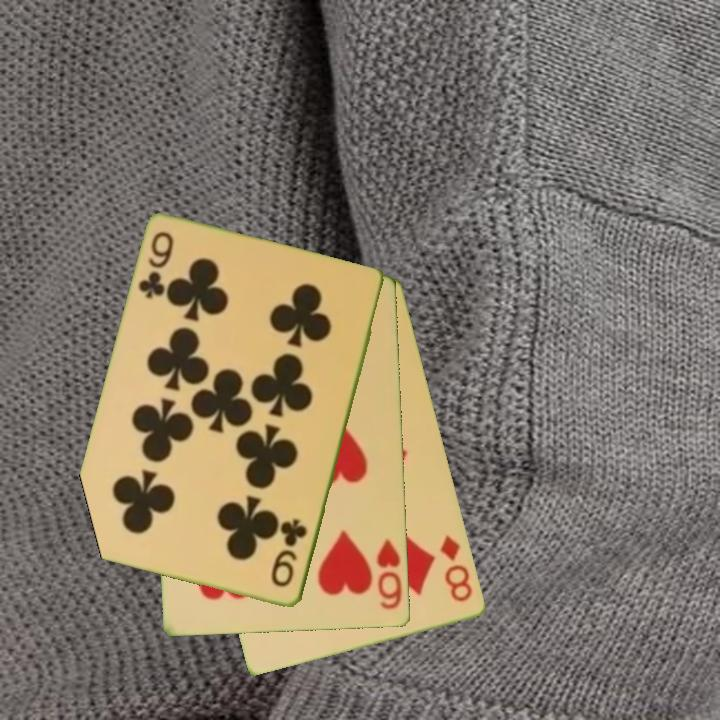6h: (373, 536, 405, 613)
8d: (437, 532, 476, 606)
9c: (268, 516, 311, 591), (135, 228, 177, 302)
